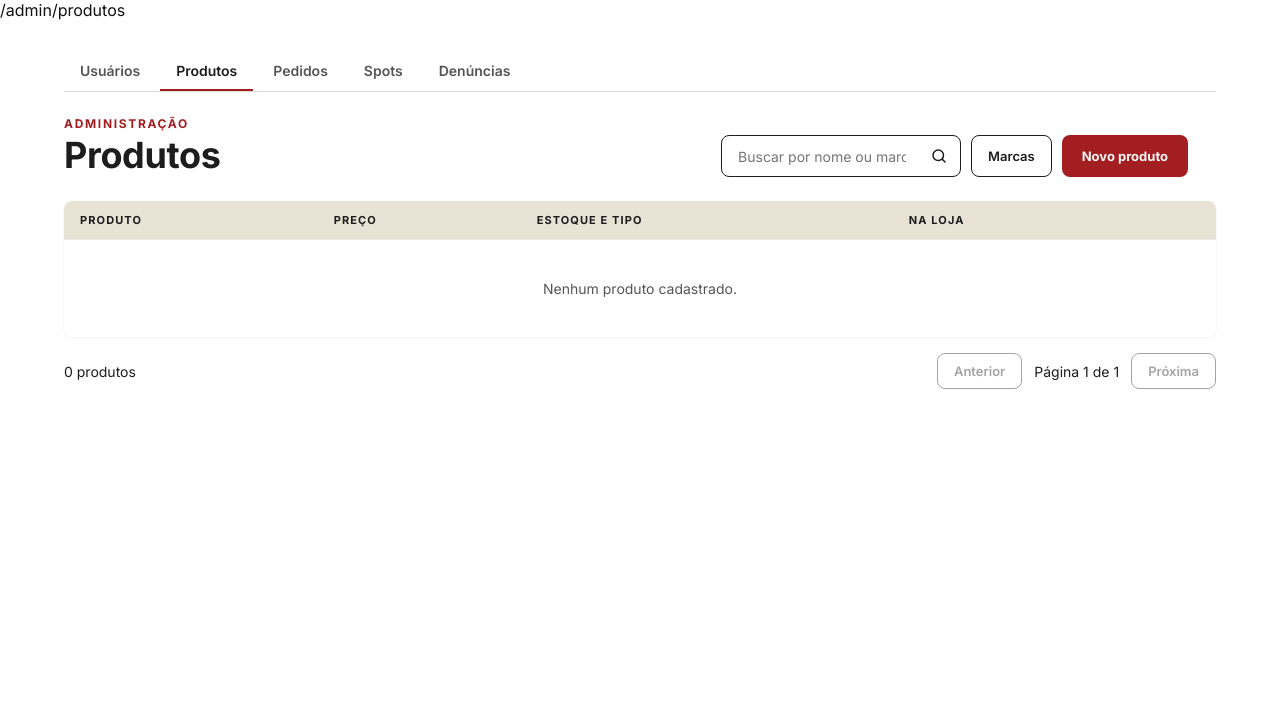
Test: Painel: fotos do produto › produto novo só recebe foto depois de salvo
Step 1. Click the button "Novo produto" → (1125, 156), box top-left (1062, 135), bottom-right (1188, 177)
(page scrolled)
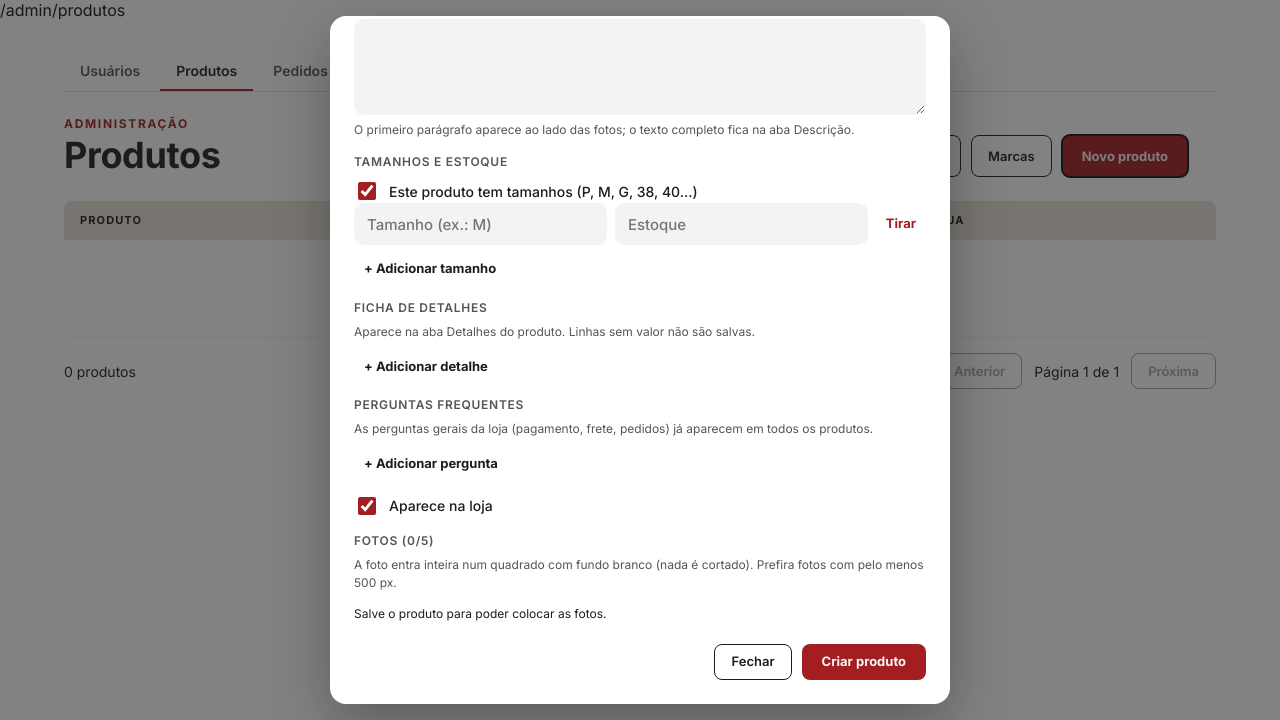
Check: the text "Salve o produto para poder colocar as fotos." is shown, box top-left (354, 606), bottom-right (606, 620)
